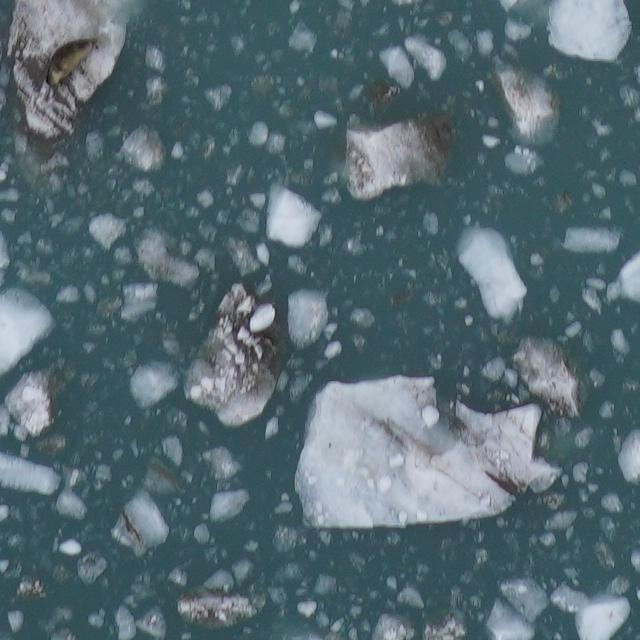seal: (41, 34, 106, 93)
